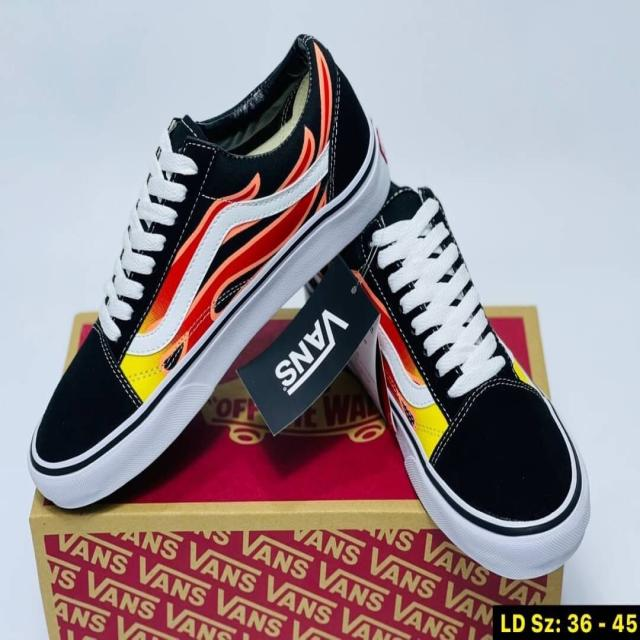shoe: (26, 34, 596, 578), (27, 33, 384, 513)
